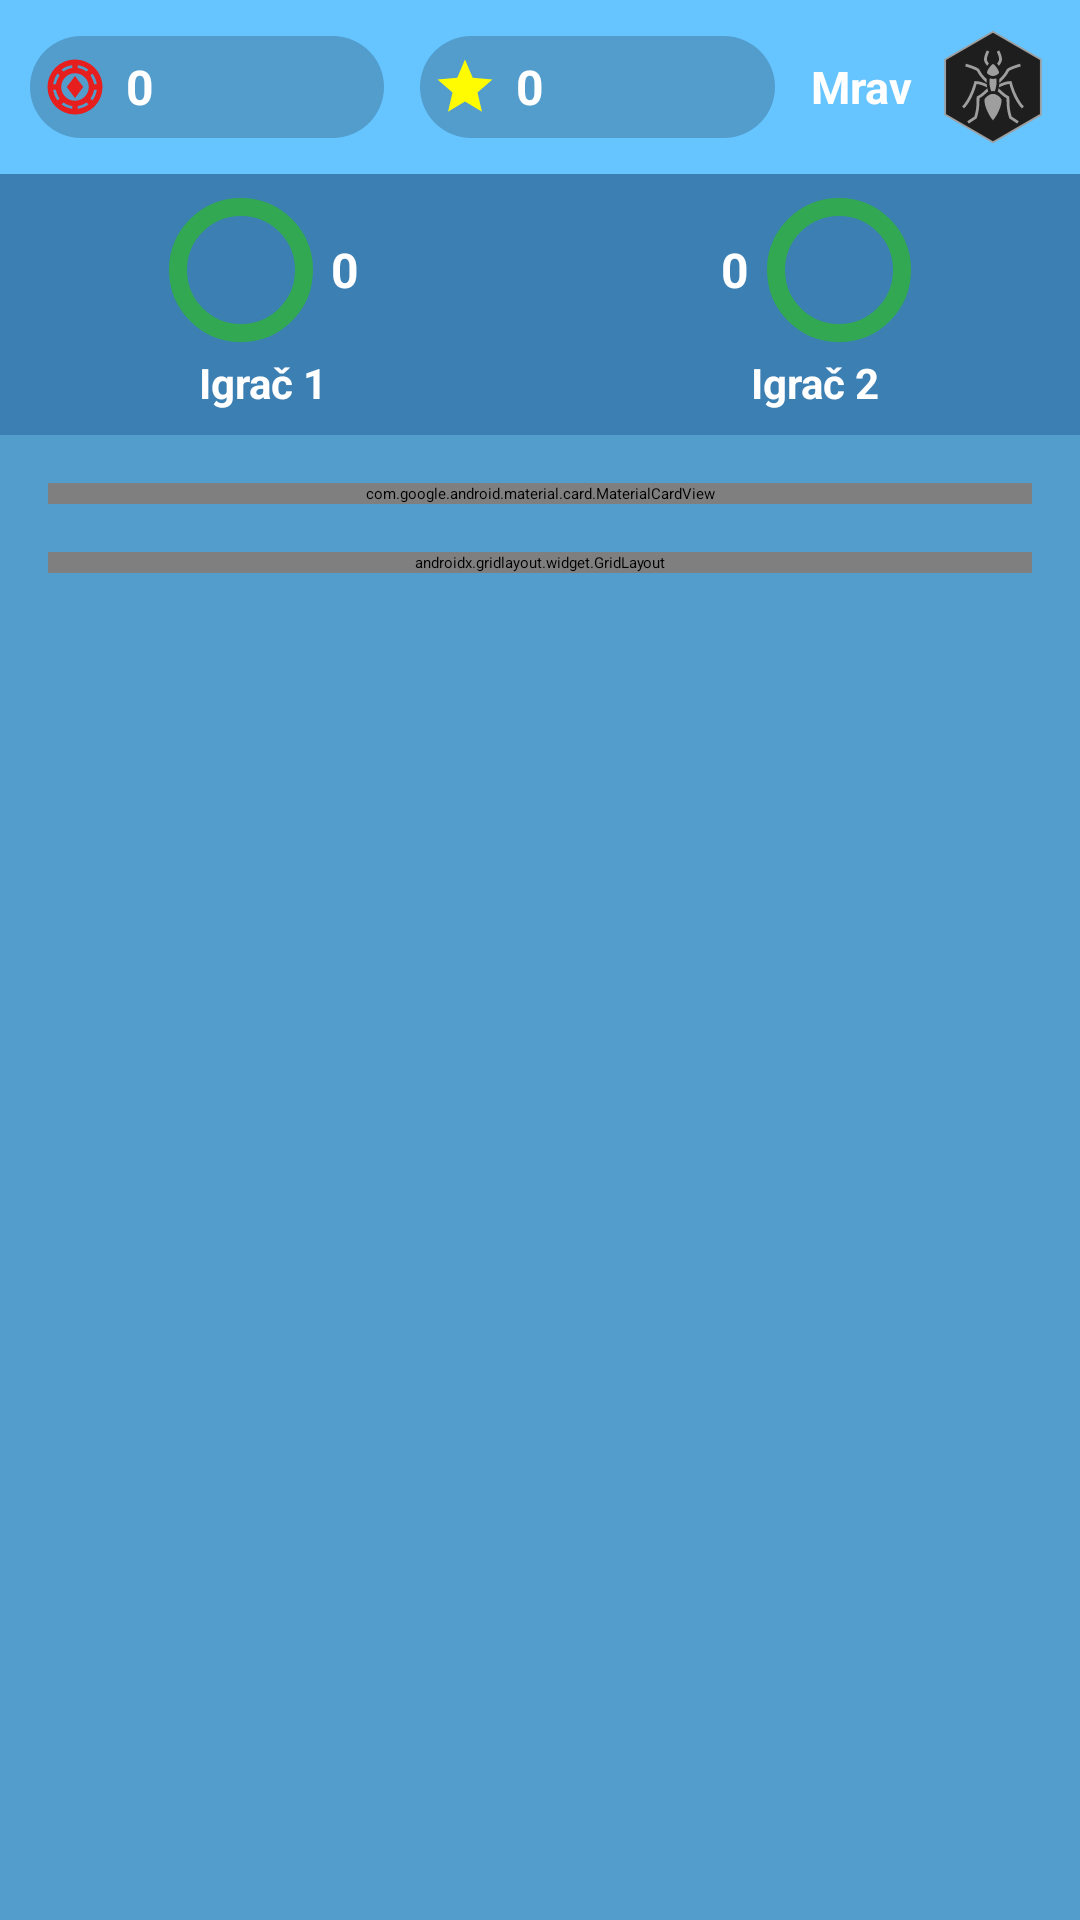

Icon bounding boxes for this 1080*1920 phone screenshot, format (x1, y1, x2, y2):
Liga: (944, 31, 1042, 143)
Tokeni: (47, 59, 103, 115)
Zvezde: (438, 60, 492, 112)
